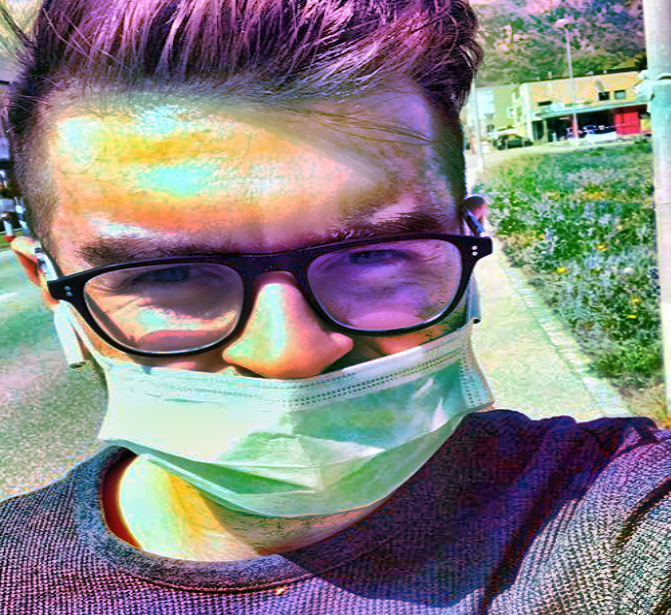mask_weared_incorrect: (1, 43, 499, 525)
